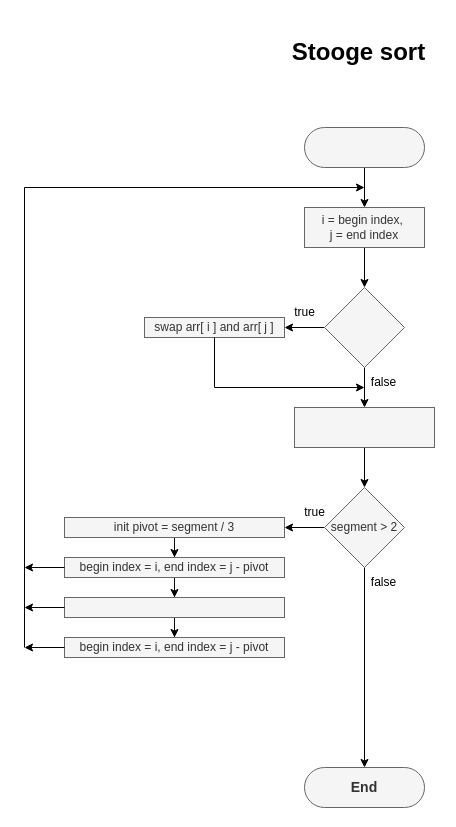
This 456x827 diagram has some shape labels left out. The box of each missing label's shape, as (x1, y1, x2, y2) in pixels:
arr[ i ] > arr[ j ]: (324, 286, 404, 368)
begin index = i + pivot, end index = j: (64, 596, 284, 618)
init segment = j - i + 1: (294, 406, 434, 448)
Start: (304, 126, 424, 168)
